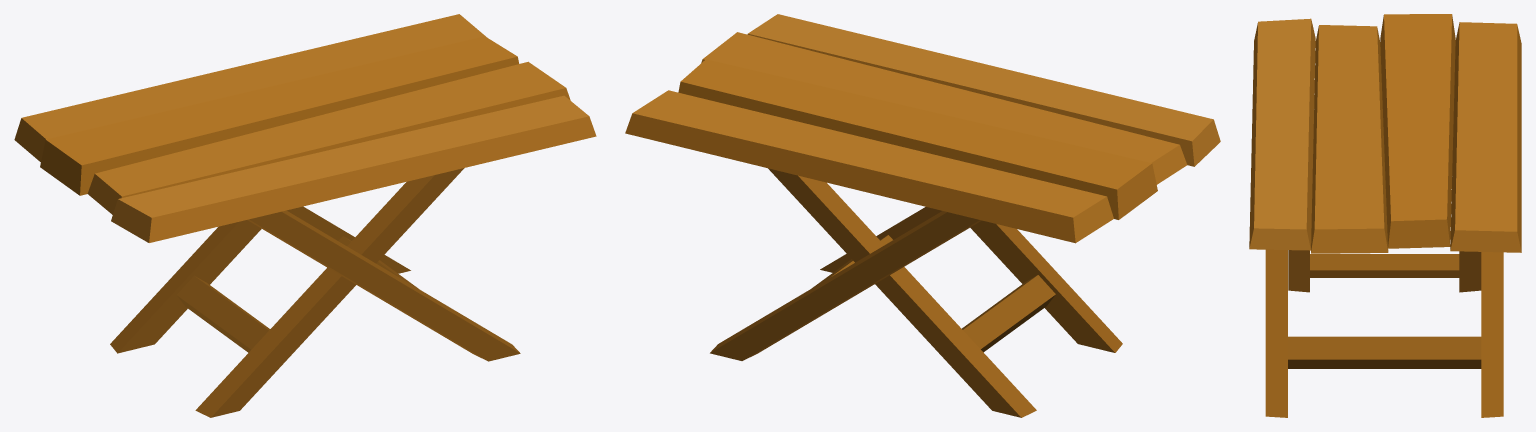
Rendered from SM_Table_B.fbx.
The picture shows the model from 3 angles, left to right: view 1: azimuth 30°, elevation 25°; view 2: azimuth 150°, elevation 25°; view 3: azimuth 270°, elevation 25°; orthographic projection. The views are drawn at different scales.
Parts seen in each view (by area): view 1: SM_Table_B; view 2: SM_Table_B; view 3: SM_Table_B.
Boxes of the visible parts, left/top/right/bottom form: SM_Table_B: left=14, top=14, right=596, bottom=417; SM_Table_B: left=625, top=14, right=1220, bottom=417; SM_Table_B: left=1249, top=14, right=1521, bottom=417.
Size of the model in its own units: 164 by 80.21 by 87.75.
